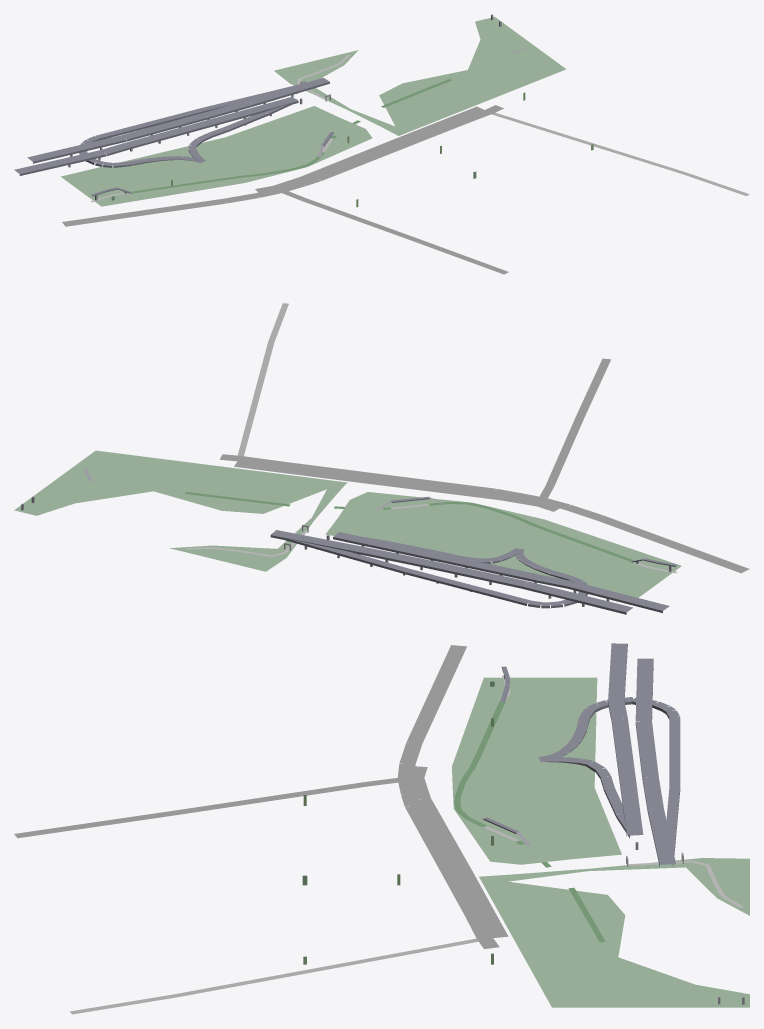
The picture shows the model from 3 angles, top to bottom: view 1: azimuth 30°, elevation 25°; view 2: azimuth 150°, elevation 25°; view 3: azimuth 270°, elevation 25°; orthographic projection. The views are drawn at different scales.
Bounding box in the file's own units: 559 × 9.82 × 472.
